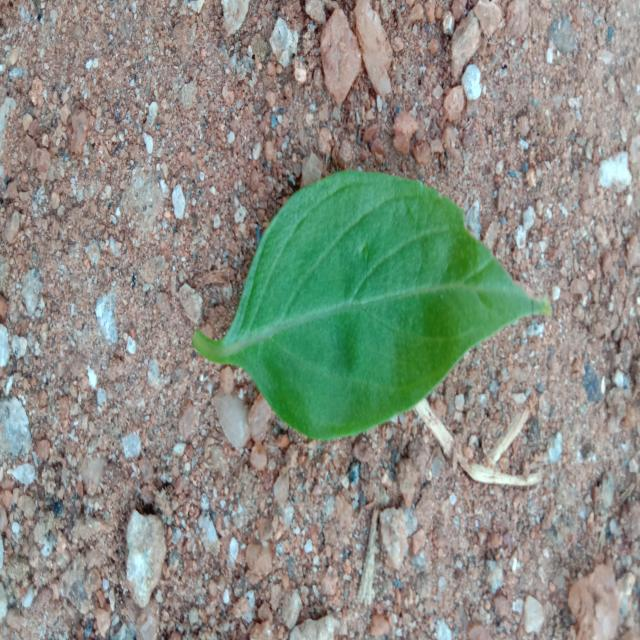kamakasturi: (195, 170, 550, 440)
